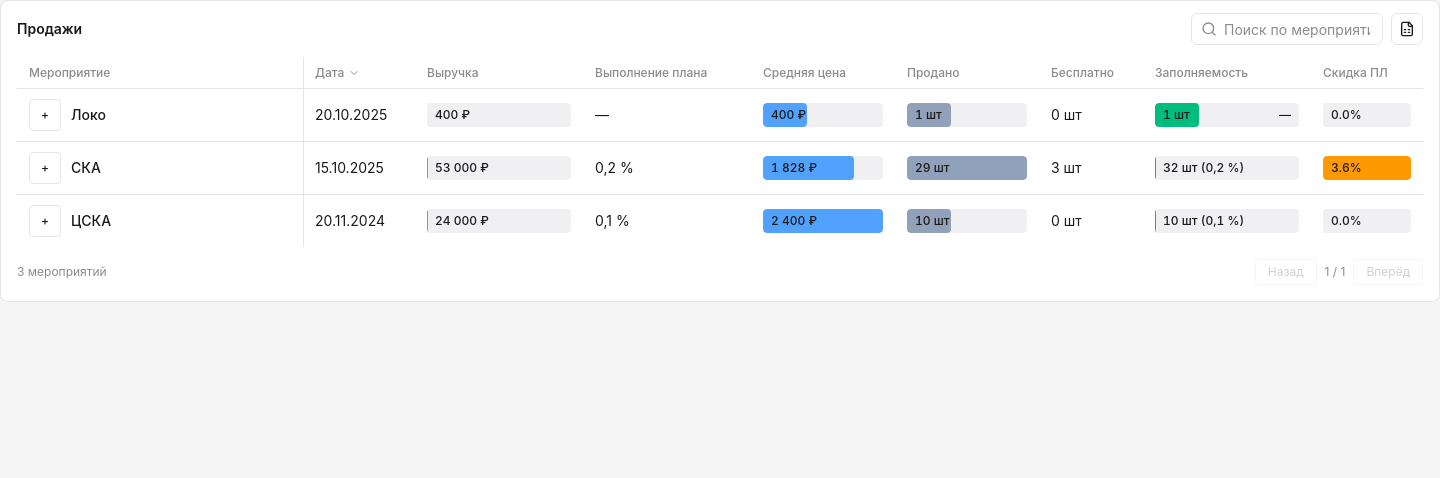
Test: MatchSalesTable integration (E2E stand-in) › scenario 1: collapsed table shows matches only, then three parallel sections
The image size is (1440, 478).
Expected: the heading "Продажи" is shown, [17,19,82,39]
Expected: the text "Тип билета" is not shown
Click the button "+" in the row of "15.10.2025" at (45, 168), box [29,152,61,184]
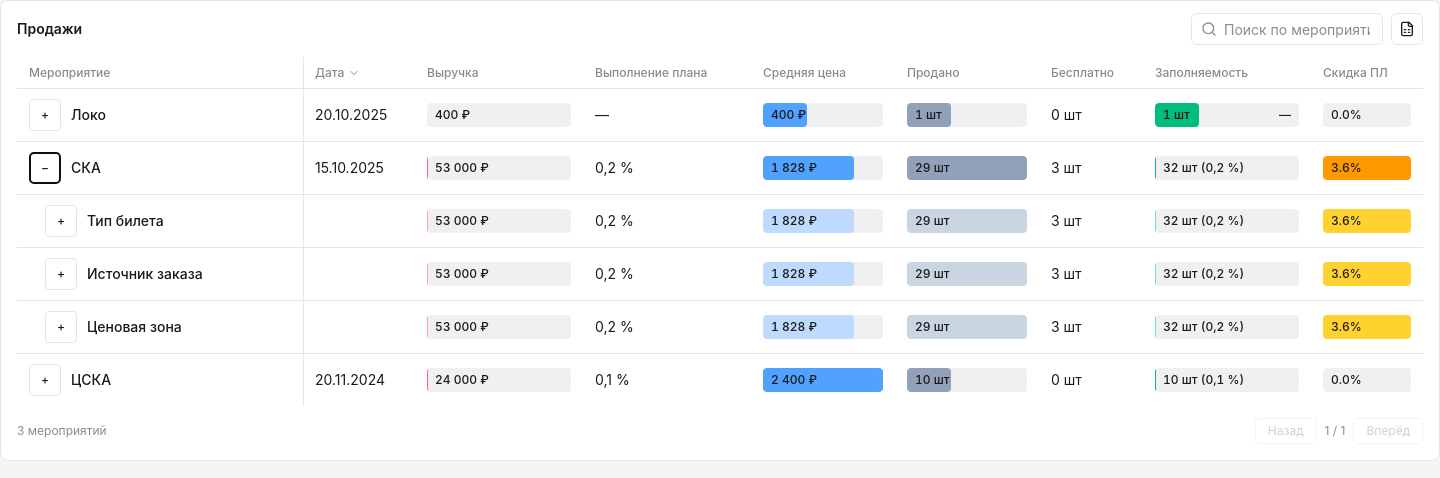
Result: the text "Тип билета" is shown at [87,211,164,231]
Result: the text "Источник заказа" is shown at [87,264,203,284]
Result: the text "Ценовая зона" is shown at [87,317,182,337]
